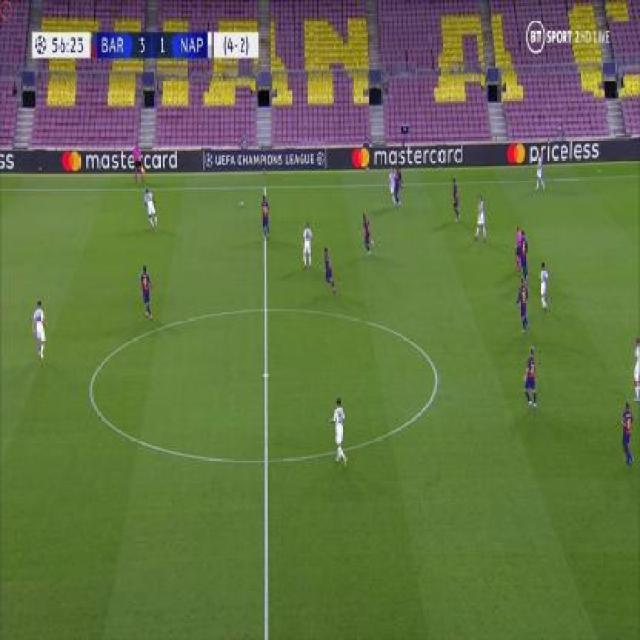ball: (239, 197, 245, 206)
player: (328, 395, 348, 466), (30, 296, 49, 362), (619, 397, 636, 466), (522, 345, 539, 411), (514, 277, 531, 336), (138, 263, 155, 319), (472, 192, 488, 243), (321, 246, 337, 295), (516, 227, 530, 281), (629, 334, 640, 402), (536, 259, 550, 312), (143, 186, 159, 229), (301, 219, 314, 270), (132, 138, 146, 184), (449, 174, 462, 222), (259, 192, 272, 240), (361, 211, 374, 257), (393, 163, 406, 209), (535, 153, 548, 190), (514, 225, 522, 273), (388, 164, 396, 209)
